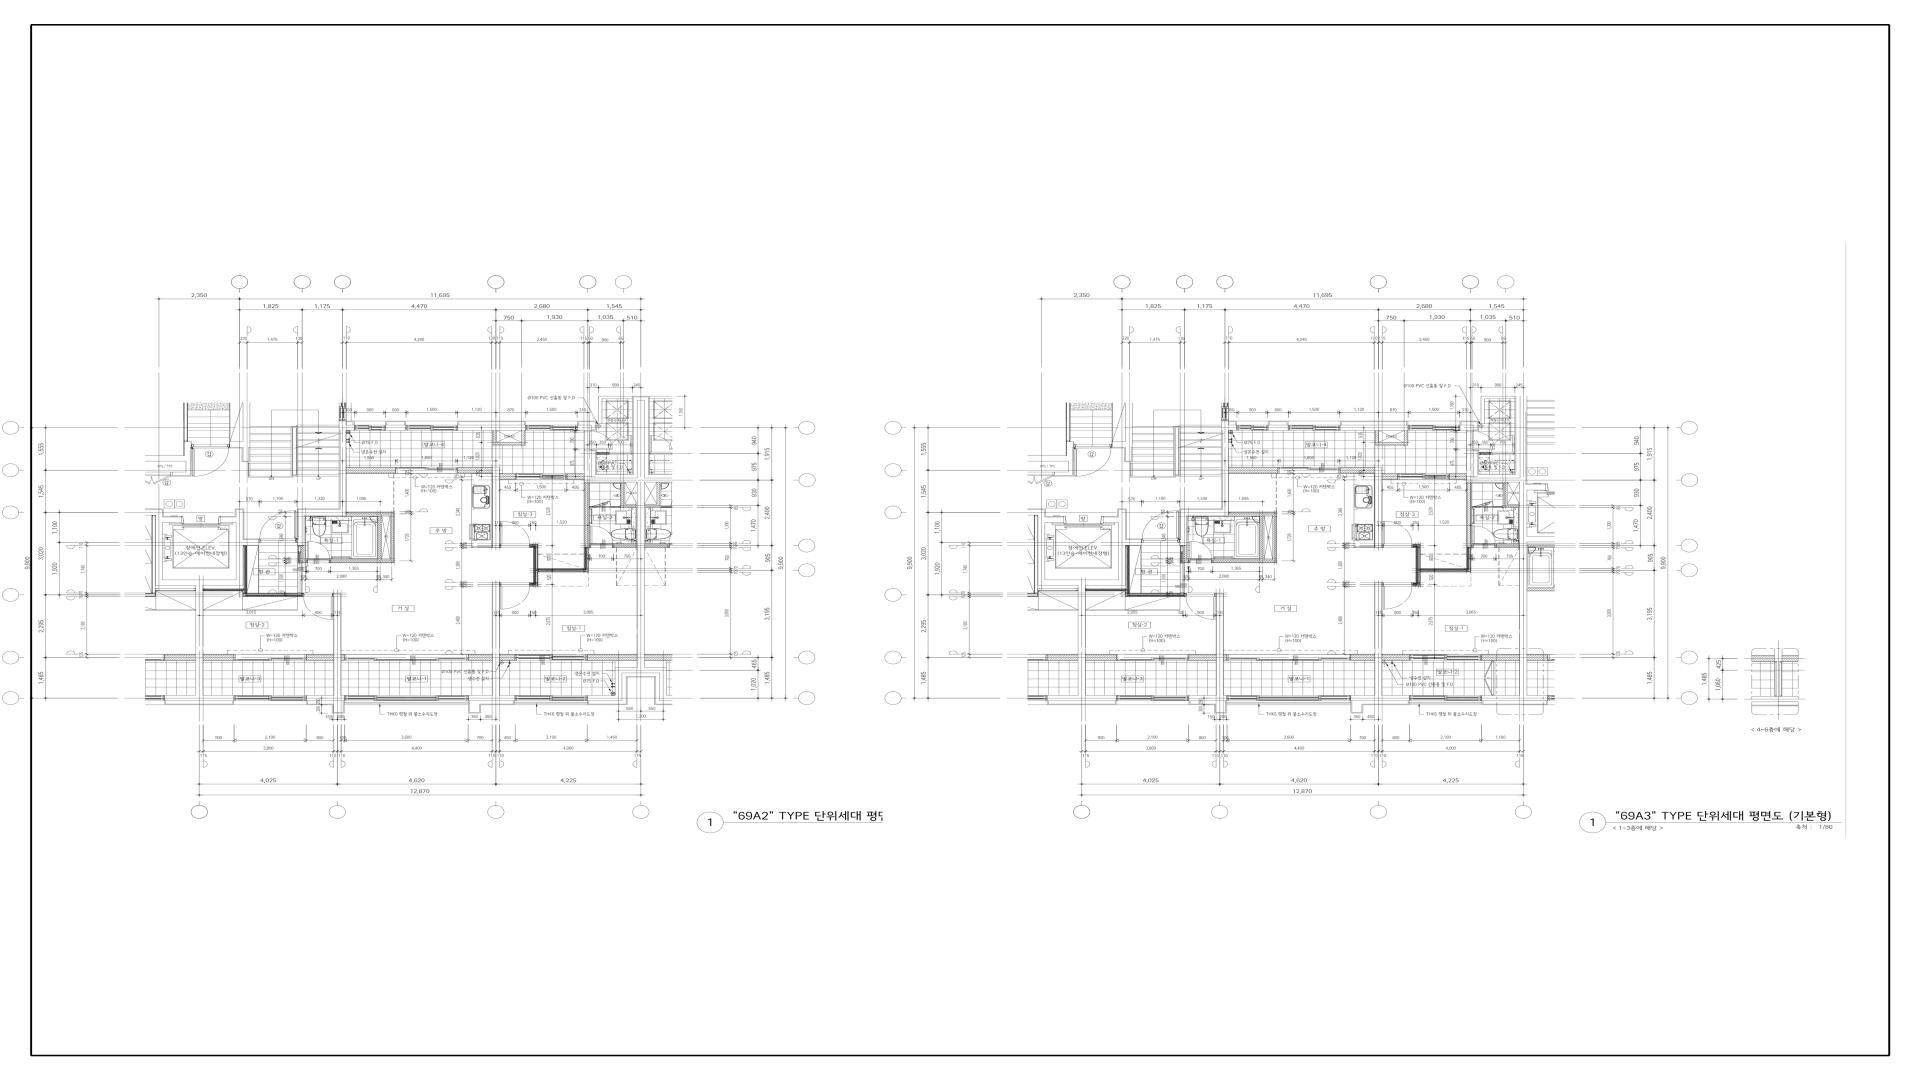door: (258, 510, 298, 546), (1142, 510, 1180, 546), (1184, 593, 1216, 622), (302, 593, 334, 622), (1382, 583, 1412, 609), (1382, 521, 1412, 547), (500, 583, 530, 609), (500, 521, 530, 547), (1466, 430, 1495, 450), (584, 430, 613, 450), (1188, 541, 1212, 563), (306, 541, 330, 563), (1491, 434, 1515, 455), (589, 526, 613, 547), (608, 434, 632, 455), (1473, 526, 1495, 547), (649, 435, 673, 455), (1474, 500, 1494, 508), (591, 500, 611, 508)
wall: (1027, 509, 1077, 585), (145, 509, 195, 585), (1126, 546, 1184, 596), (1212, 516, 1273, 563), (330, 516, 390, 563), (588, 667, 673, 700), (588, 673, 673, 705), (641, 396, 674, 480), (1412, 543, 1472, 587), (530, 543, 588, 587), (1228, 512, 1276, 563), (345, 512, 394, 563), (1466, 450, 1519, 483), (584, 450, 637, 483), (1085, 546, 1126, 585), (203, 546, 244, 585), (1027, 442, 1073, 476), (145, 442, 191, 476), (1221, 421, 1237, 516), (339, 421, 355, 516), (1519, 508, 1527, 695), (1104, 509, 1142, 546), (220, 509, 258, 546), (637, 508, 645, 667), (1112, 402, 1133, 462), (229, 402, 251, 462), (596, 396, 633, 423), (1515, 396, 1527, 480), (1480, 396, 1515, 423), (1077, 580, 1085, 695), (195, 580, 203, 695), (1374, 583, 1382, 695), (492, 583, 500, 695), (1216, 593, 1224, 695), (334, 593, 342, 695), (1350, 700, 1410, 713), (633, 396, 641, 480), (1374, 467, 1382, 547), (492, 467, 500, 547), (468, 700, 516, 713), (492, 430, 526, 446), (1375, 430, 1408, 446), (1188, 700, 1226, 713), (306, 700, 344, 713), (1481, 695, 1548, 702), (1050, 695, 1116, 702), (167, 695, 233, 702), (1466, 483, 1473, 547), (584, 483, 591, 547), (621, 483, 637, 506), (645, 483, 661, 506), (1340, 425, 1408, 430), (458, 425, 526, 430), (1505, 483, 1519, 506), (1174, 426, 1180, 476), (1228, 467, 1278, 473), (587, 654, 637, 661), (291, 426, 298, 476), (345, 467, 396, 473), (1469, 654, 1519, 661), (1350, 695, 1410, 700), (1179, 509, 1222, 516), (297, 509, 340, 516), (1340, 421, 1408, 425), (458, 421, 526, 425), (1481, 702, 1548, 705), (1050, 702, 1117, 705), (1221, 421, 1225, 487), (339, 421, 343, 487), (167, 702, 233, 705), (1188, 695, 1226, 702), (306, 695, 344, 702), (468, 695, 516, 700), (1179, 516, 1187, 546), (297, 516, 305, 546), (1340, 467, 1375, 473), (458, 467, 492, 473), (1519, 480, 1527, 508), (637, 480, 645, 508), (1460, 421, 1480, 431), (1085, 654, 1117, 661), (203, 654, 235, 661), (578, 421, 596, 431), (1050, 654, 1079, 661), (1188, 654, 1216, 661), (645, 654, 673, 661), (167, 654, 195, 661), (306, 654, 334, 661), (1527, 654, 1555, 661), (468, 654, 492, 661), (1350, 654, 1374, 661), (385, 425, 406, 431), (1269, 425, 1288, 431), (1449, 473, 1466, 480), (567, 473, 584, 480), (1382, 473, 1398, 480), (500, 654, 516, 661), (500, 473, 516, 480), (1382, 654, 1398, 661), (645, 543, 670, 547), (1527, 543, 1552, 547), (1460, 425, 1474, 431), (578, 425, 592, 431), (613, 543, 637, 547), (1495, 543, 1519, 547), (1183, 546, 1188, 563), (301, 546, 306, 563), (385, 421, 406, 425), (1269, 421, 1288, 425), (645, 480, 674, 483), (345, 421, 355, 425), (1229, 421, 1237, 425), (1480, 452, 1491, 455), (596, 452, 608, 455), (1224, 654, 1228, 661), (342, 654, 344, 661), (611, 506, 621, 508), (1494, 506, 1503, 508), (1472, 506, 1474, 508), (589, 506, 591, 508)
window: (1226, 654, 1350, 661), (344, 654, 468, 661), (1226, 695, 1350, 700), (344, 695, 468, 700), (1116, 695, 1188, 702), (233, 695, 306, 702), (1117, 654, 1188, 661), (1398, 654, 1469, 661), (235, 654, 306, 661), (516, 654, 587, 661), (1278, 467, 1340, 473), (396, 467, 458, 473), (516, 695, 588, 700), (1408, 425, 1460, 431), (1398, 473, 1449, 480), (526, 425, 578, 431), (516, 473, 567, 480), (1288, 425, 1340, 430), (406, 425, 458, 430), (1237, 425, 1269, 431), (355, 425, 385, 431)
